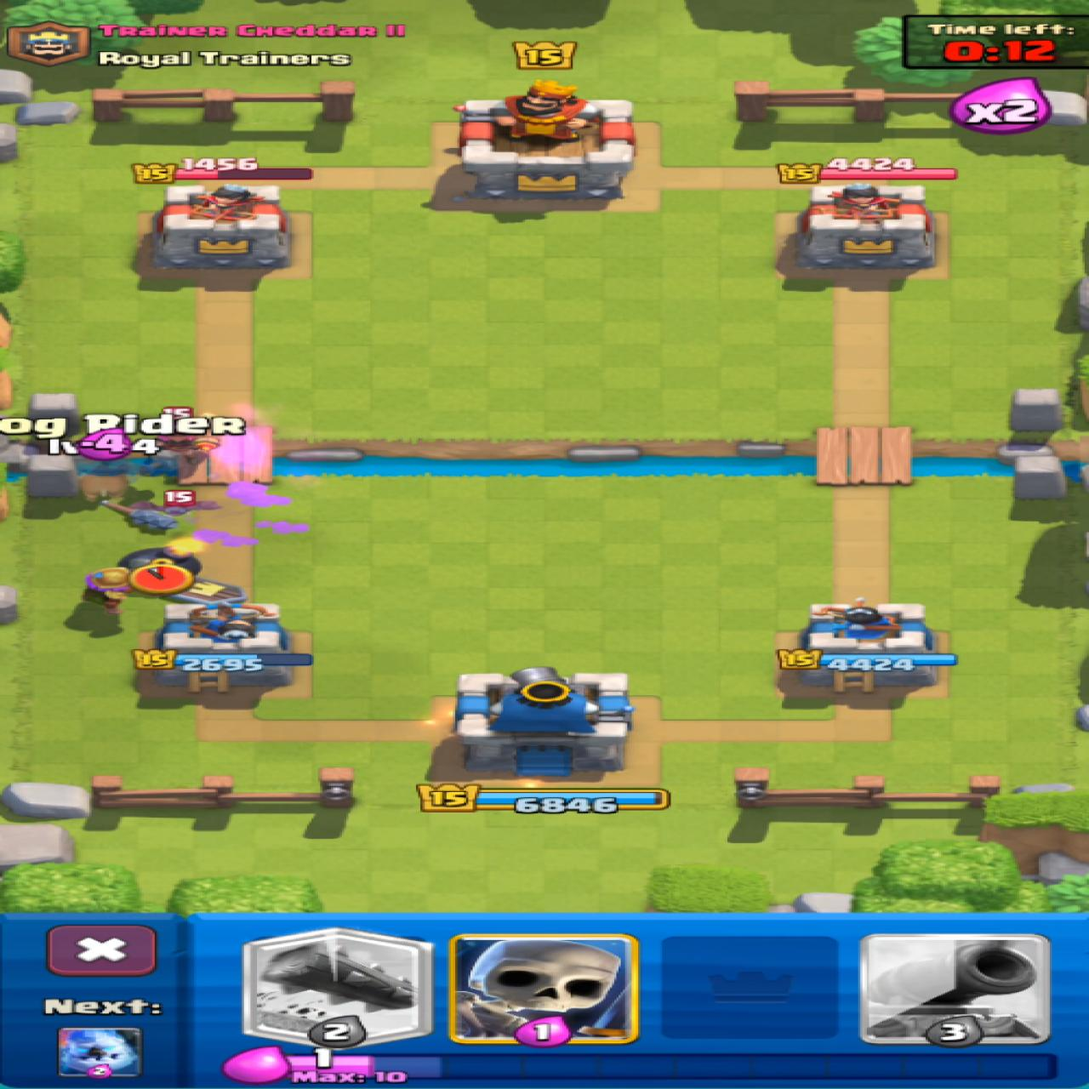Enemy-Bat: (133, 491, 218, 515)
Enemy-Firecracker: (142, 423, 218, 475), (163, 408, 192, 424)
Enemy-KingTower: (457, 81, 634, 198)
Enemy-PrincessTower: (784, 184, 937, 280), (150, 186, 290, 274)
